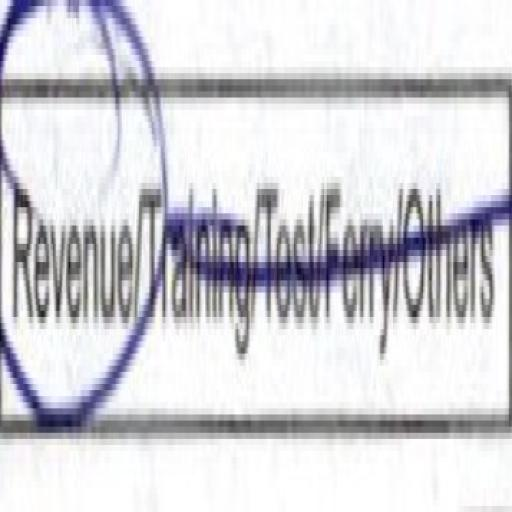check: (0, 0, 139, 476)
